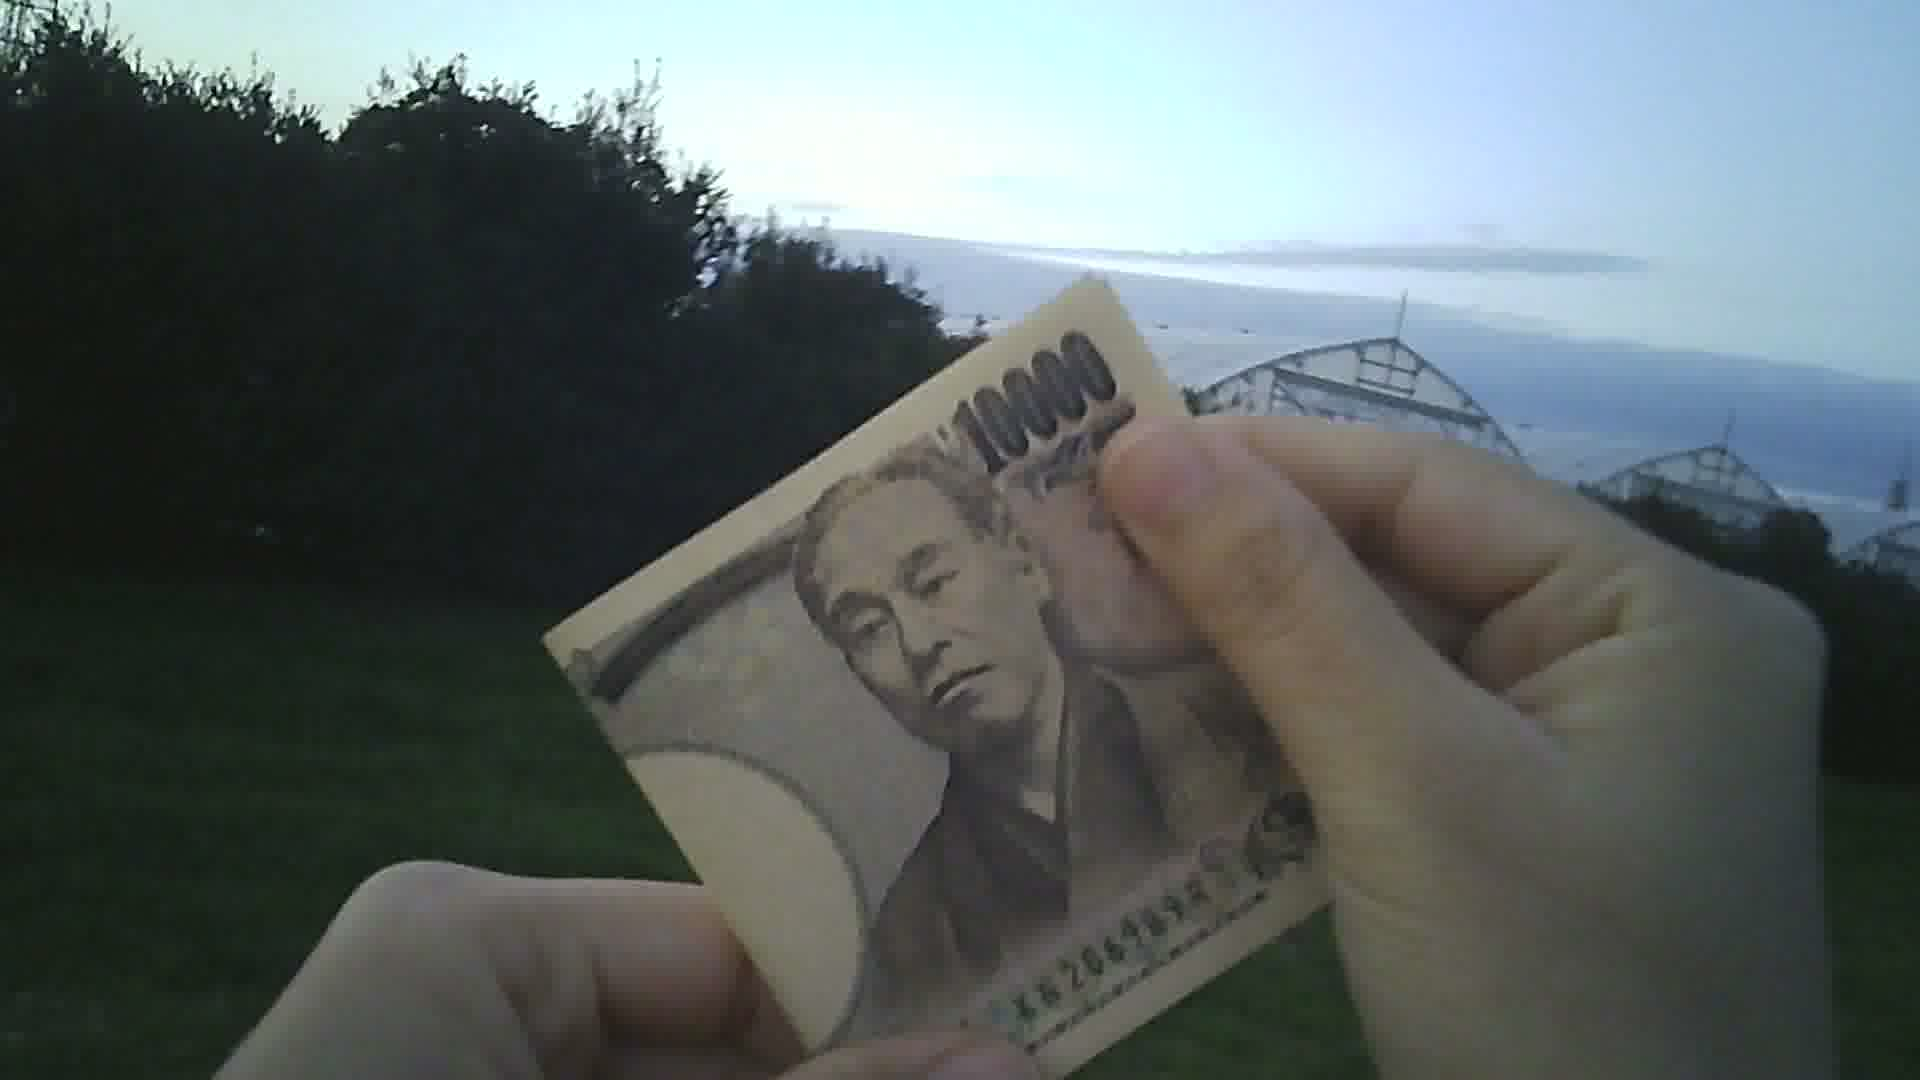10,000 Yen: (518, 287, 1362, 1079)
